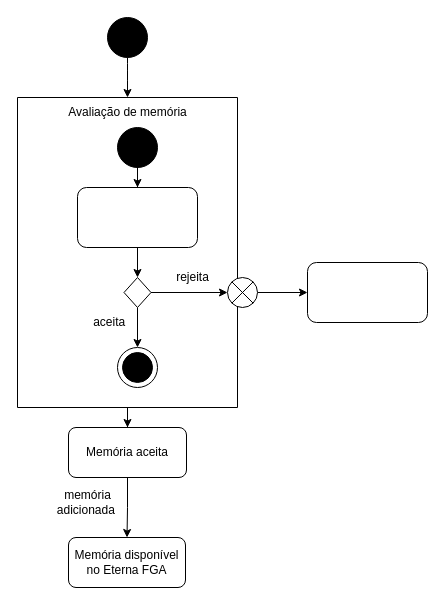
Image size: 445x605. Some labels were removed from this diagram. The shapes that lost their labels are listed below. From the top down, each one's centre as x and y in pixels, then its label:
At (x=137, y=217): "Memória é enviada".
At (x=367, y=292): "Memória rejeitada".
